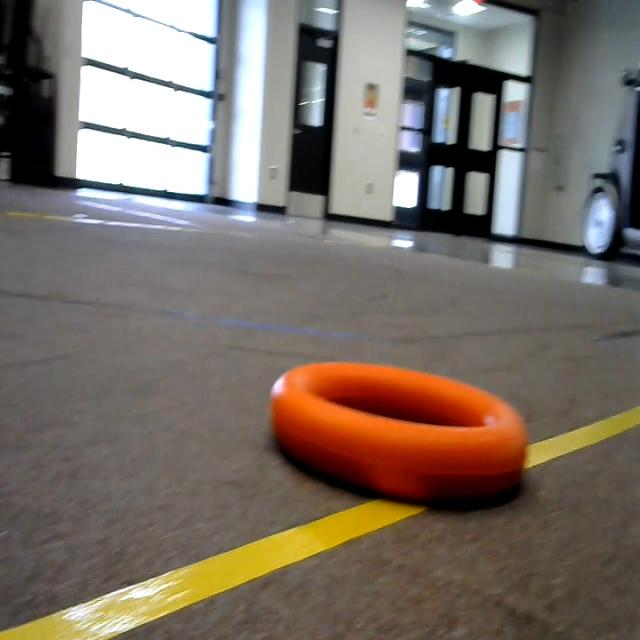note: (256, 327, 538, 511)
